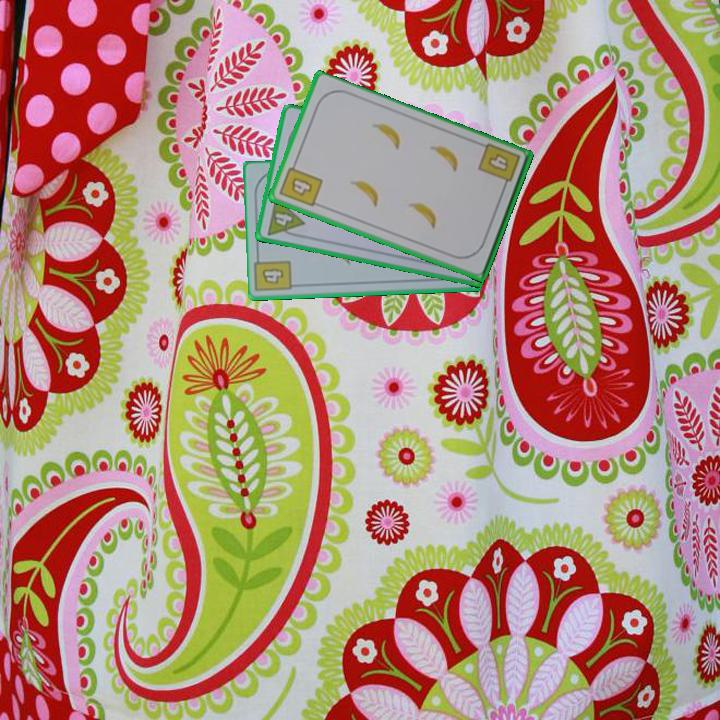4b: (276, 158, 326, 210), (475, 140, 523, 193), (258, 265, 286, 287)
4p: (264, 194, 307, 241)
